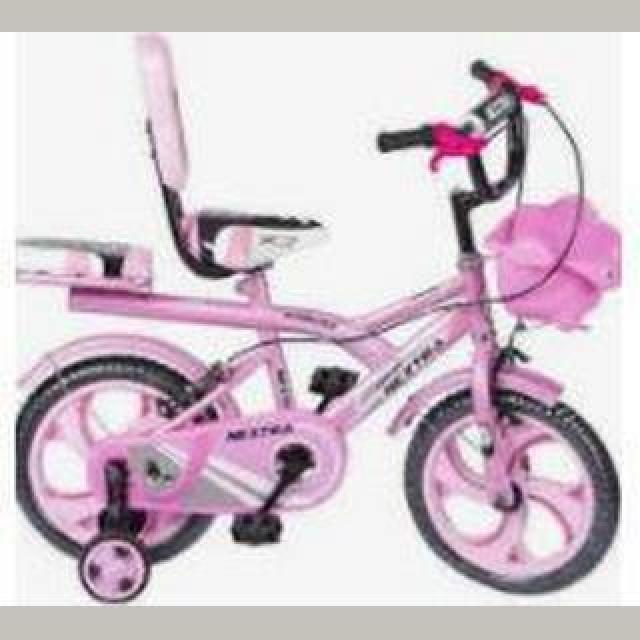Person: (14, 32, 622, 606)
